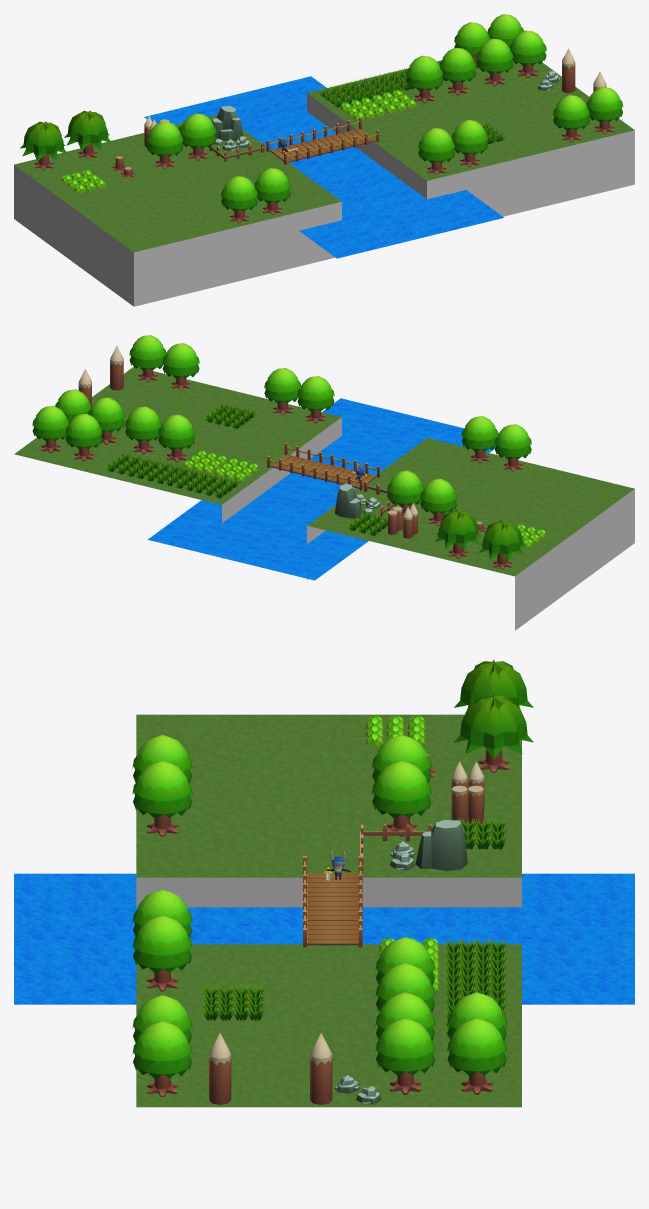
Rendered from jk background.FBX.
3 renders of one model, top to bottom at view 1: azimuth 30°, elevation 25°; view 2: azimuth 150°, elevation 25°; view 3: azimuth 270°, elevation 25°, orthographic. The views are drawn at different scales.
Parts seen in each view (by area): view 1: Plane001 (×2), Plane012, Object018, Object033, Object019, Plane007, Plane008, Plane009, Plane003, Object032, Plane010, Object009 (+21 smaller); view 2: Plane001 (×2), Plane012, Object019, Plane009, Plane010, Plane007, Plane004, Object032, Plane008, Object009, Object083, Plane003 (+19 smaller); view 3: Plane001 (×2), Plane012, Object020, Plane010, Plane008, Plane007, Plane009, Object082, Plane002, Object009, Sphere153, Sphere151 (+17 smaller).
Boxes of the visible parts, left/top/right/bottom form: Plane001 (×2): left=14, top=115, right=341, bottom=252; Plane012: left=307, top=60, right=634, bottom=180; Object018: left=134, top=201, right=341, bottom=306; Object033: left=427, top=130, right=634, bottom=216; Object019: left=14, top=165, right=133, bottom=306; Plane007: left=372, top=190, right=503, bottom=237; Plane008: left=299, top=203, right=420, bottom=258; Plane009: left=228, top=76, right=326, bottom=131; Plane003: left=324, top=156, right=416, bottom=202; Object032: left=307, top=93, right=426, bottom=198; Plane010: left=144, top=96, right=274, bottom=137; Object009: left=64, top=110, right=111, bottom=159; Plane001 (×2): left=280, top=438, right=634, bottom=576; Plane012: left=14, top=366, right=341, bottom=504; Object019: left=515, top=489, right=634, bottom=630; Plane009: left=147, top=504, right=278, bottom=559; Plane010: left=231, top=525, right=362, bottom=580; Plane007: left=322, top=398, right=423, bottom=453; Plane004: left=196, top=478, right=327, bottom=524; Object032: left=222, top=417, right=341, bottom=558; Plane008: left=376, top=418, right=495, bottom=459; Object009: left=434, top=510, right=481, bottom=558; Object083: left=478, top=520, right=526, bottom=569; Plane003: left=283, top=443, right=375, bottom=489; Plane001 (×2): left=136, top=714, right=521, bottom=939; Plane012: left=136, top=944, right=521, bottom=1107; Object020: left=136, top=877, right=521, bottom=907; Plane010: left=479, top=873, right=634, bottom=939; Plane008: left=14, top=873, right=138, bottom=939; Plane007: left=14, top=939, right=136, bottom=1004; Plane009: left=479, top=939, right=634, bottom=1004; Object082: left=307, top=873, right=358, bottom=945; Plane002: left=186, top=907, right=302, bottom=939; Object009: left=454, top=694, right=533, bottom=772; Sphere153: left=447, top=1018, right=506, bottom=1094; Sphere151: left=375, top=1018, right=435, bottom=1094.
Bounding box in the file's own units: 7830 × 5229 × 1456.
